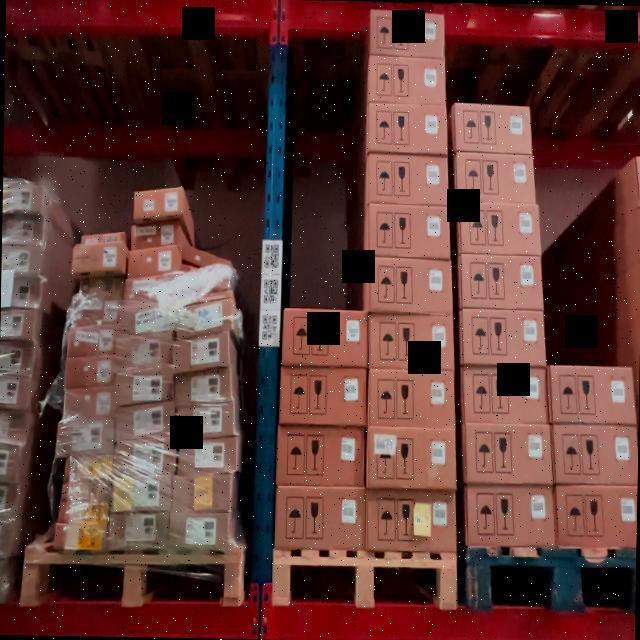box: (464, 482, 558, 546), (275, 486, 366, 550), (464, 422, 554, 484), (367, 428, 456, 490), (276, 426, 366, 486), (366, 490, 456, 550), (366, 370, 456, 430), (555, 424, 638, 486), (279, 366, 365, 424), (283, 308, 366, 367), (369, 312, 453, 370), (550, 367, 634, 425), (458, 202, 546, 257), (460, 309, 545, 365), (462, 368, 547, 424), (558, 486, 637, 546), (370, 257, 452, 313), (453, 151, 537, 203), (368, 205, 450, 258), (459, 256, 542, 308), (368, 102, 448, 154), (368, 155, 448, 207), (367, 56, 448, 106), (456, 104, 533, 154), (370, 10, 446, 58), (168, 513, 230, 553), (108, 514, 167, 553), (116, 440, 176, 478), (173, 476, 232, 514), (180, 436, 238, 474), (112, 477, 171, 514), (176, 403, 236, 439), (117, 404, 176, 440), (118, 369, 176, 405), (57, 419, 113, 456), (173, 335, 230, 371), (176, 297, 232, 333), (174, 370, 232, 404), (119, 336, 174, 371), (122, 301, 176, 335), (68, 322, 117, 358), (74, 239, 124, 272), (178, 270, 232, 300), (63, 388, 113, 420), (64, 356, 113, 388), (136, 186, 183, 218), (130, 246, 180, 276), (127, 275, 178, 304), (62, 456, 111, 484), (2, 179, 42, 213), (134, 220, 180, 248), (74, 274, 122, 300), (54, 526, 103, 551), (69, 302, 118, 327), (180, 244, 230, 268), (1, 214, 42, 243), (63, 482, 110, 507), (58, 501, 106, 525)
